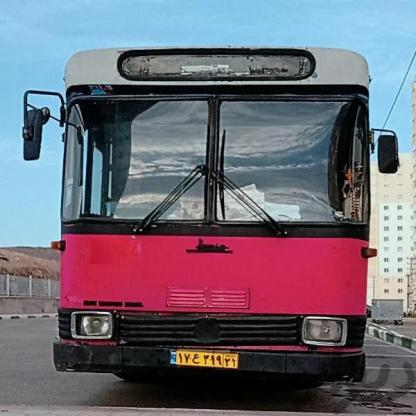Bus: (57, 52, 378, 414)
